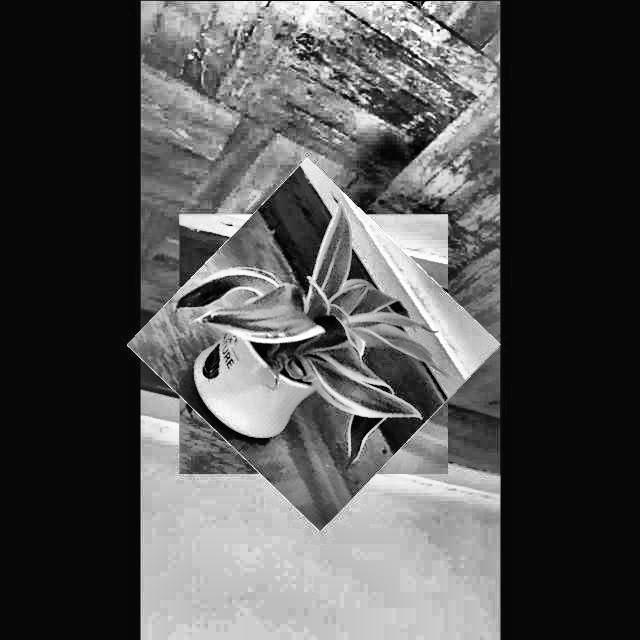plants: (152, 185, 474, 502)
